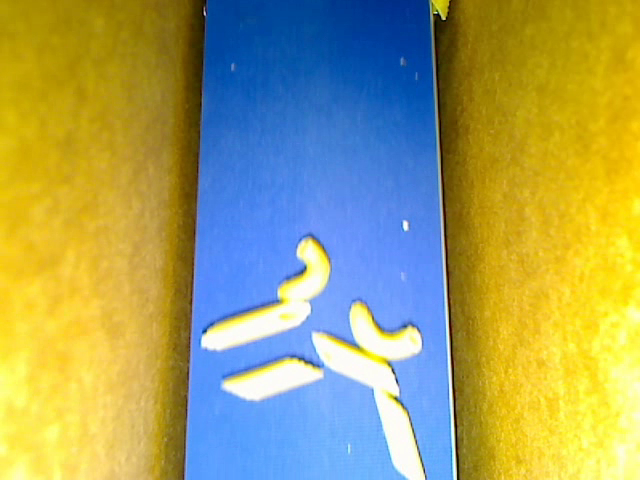elbow: (348, 300, 422, 361), (277, 235, 331, 303)
penne: (310, 330, 401, 396), (200, 300, 311, 350), (373, 388, 426, 479), (218, 356, 323, 401)
